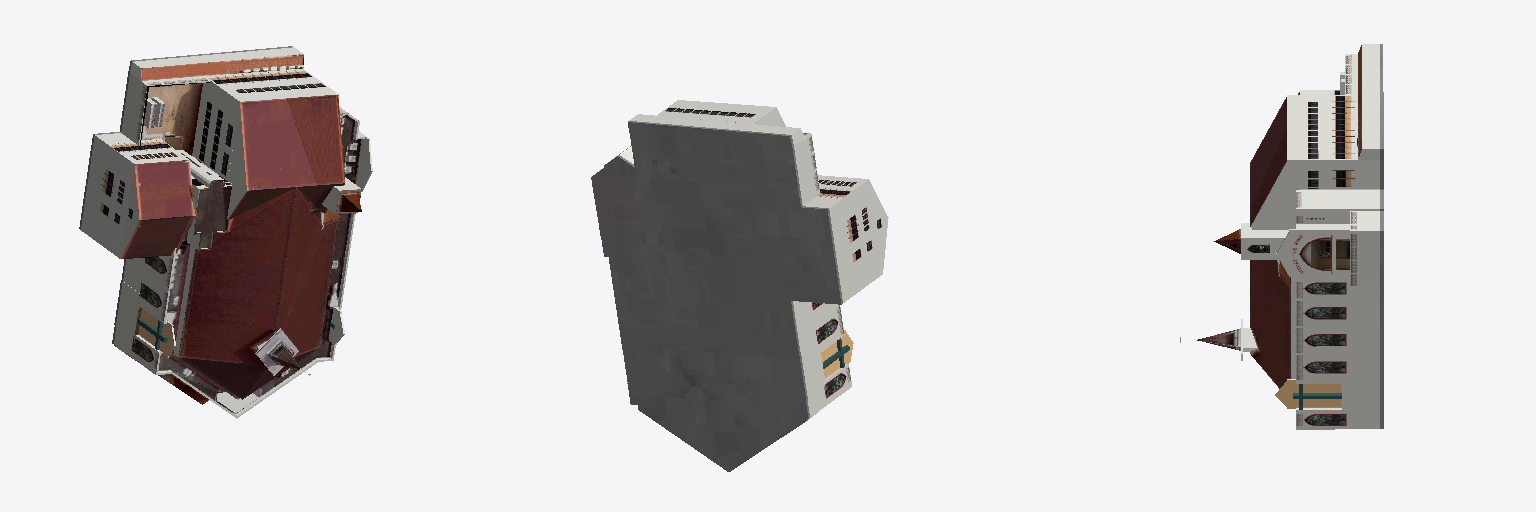
The picture shows the model from 3 angles: view 1: azimuth 30°, elevation 25°; view 2: azimuth 150°, elevation 25°; view 3: azimuth 270°, elevation 25°; orthographic projection.
Visible parts, largest first — view 1: polygon.759; view 2: polygon.759; view 3: polygon.759.
Boxes of the visible parts, x1=… form: polygon.759: x1=79, y1=46, x2=372, y2=418; polygon.759: x1=591, y1=100, x2=888, y2=471; polygon.759: x1=1180, y1=44, x2=1383, y2=429.
Bounding box in the file's own units: 44.52 × 59.67 × 31.95.
Materials: 1 (1 with a texture image).